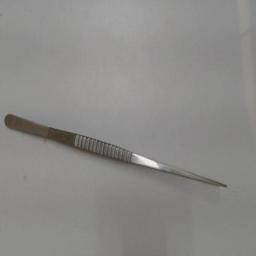DeBakey Dissector: (4, 106, 232, 198)
